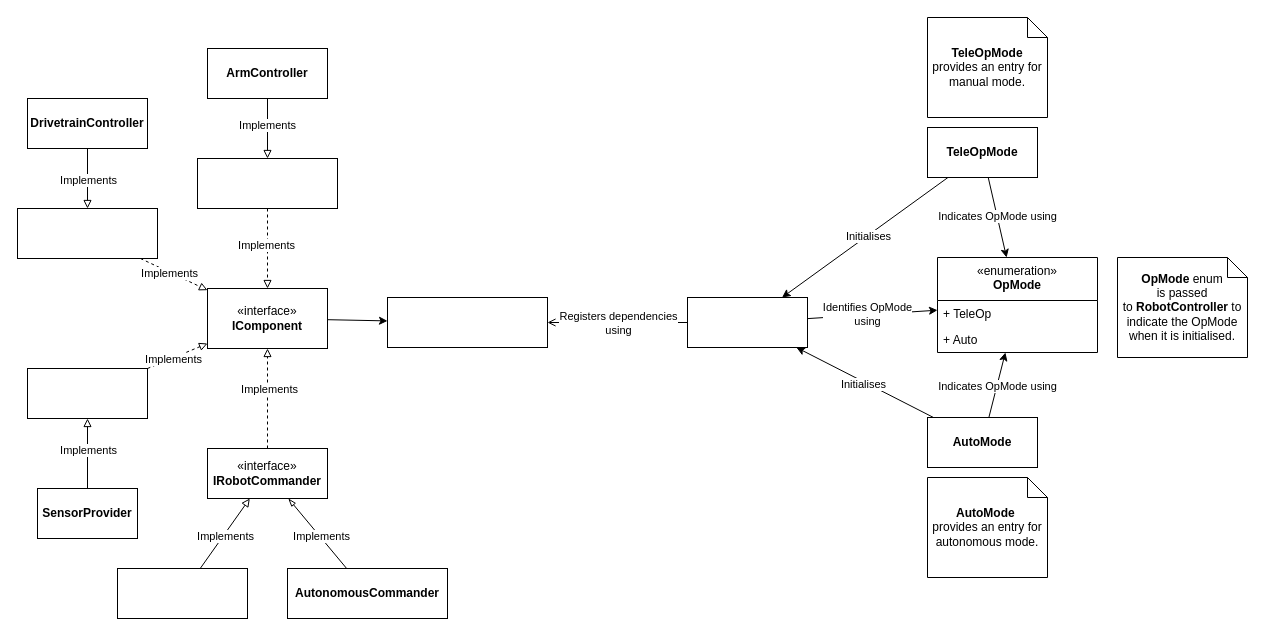
Image size: 1265x636. Some labels were removed from this diagram. The centre of each missing label's shape, as x and y in pixels:
GamepadCommander: [182,593]
RobotController: [747,322]
«interface» IArmController: [267,183]
«interface» IDrivetrainController: [87,233]
«interface» ISensorProvider: [87,393]
«static» RobotComponentStore: [467,322]
